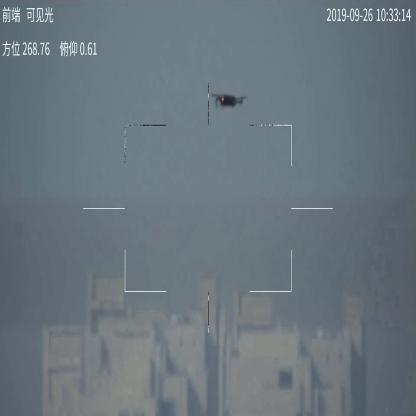uav: (208, 90, 247, 111)
